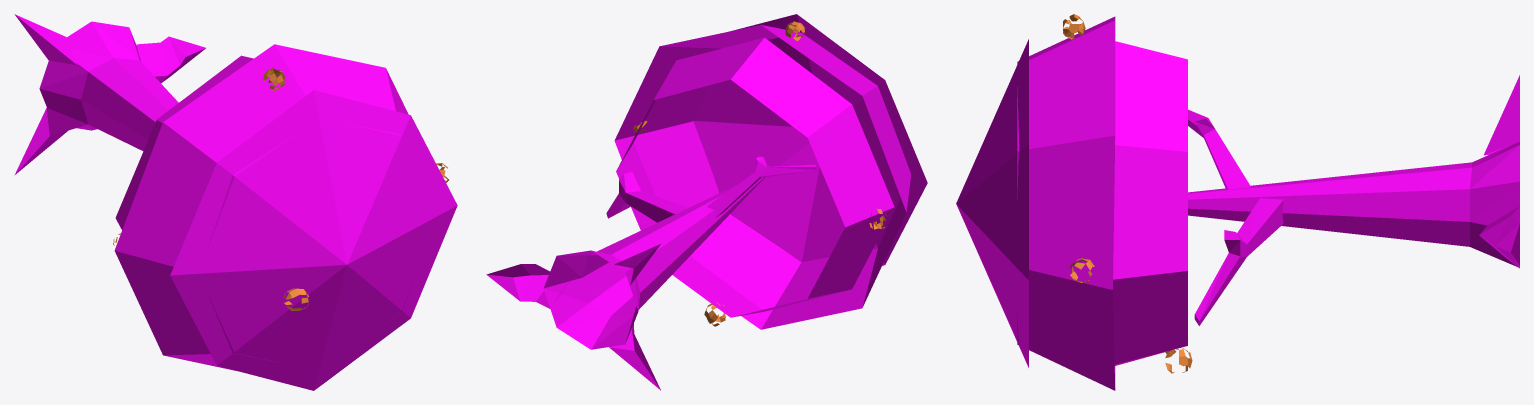
The model's file is 4_mature_partial.obj.
The picture shows the model from 3 angles, left to right: view 1: azimuth 30°, elevation 25°; view 2: azimuth 150°, elevation 25°; view 3: azimuth 270°, elevation 25°; orthographic projection. The views are drawn at different scales.
Parts seen in each view (by area): view 1: grapefruit_4_partial; view 2: grapefruit_4_partial; view 3: grapefruit_4_partial.
Boxes of the visible parts, x1,y1,x2,y2 form: grapefruit_4_partial: (14, 14, 457, 390); grapefruit_4_partial: (486, 14, 927, 390); grapefruit_4_partial: (956, 14, 1519, 390).
Size of the model in its own units: 1.79 by 1.78 by 2.48.
